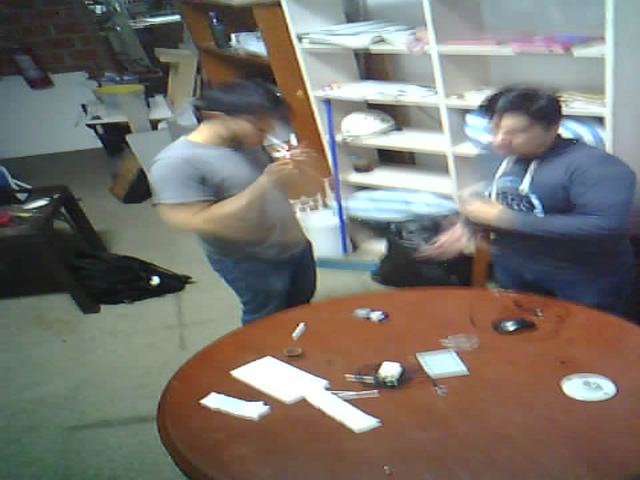person: (110, 63, 338, 356), (460, 77, 640, 343)
